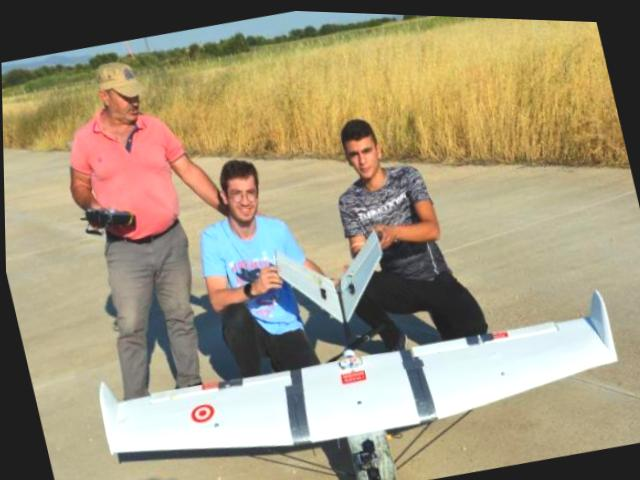iha: (70, 168, 640, 480)
